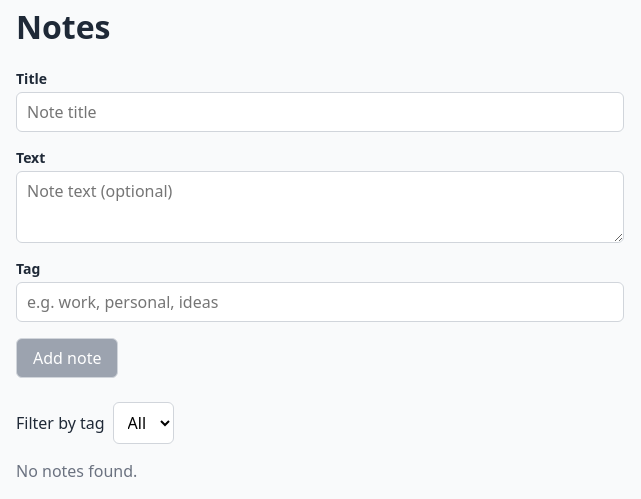
Test: Notes with tags UI › disables submit until title and tag are provided
Expected: the text "No notes found." is shown, [16,460,137,482]
Expected: the button "Add note" is disabled, [16,338,118,378]
Type "My note" into the field labelled "Title" at (320, 112), box [16,92,624,132]
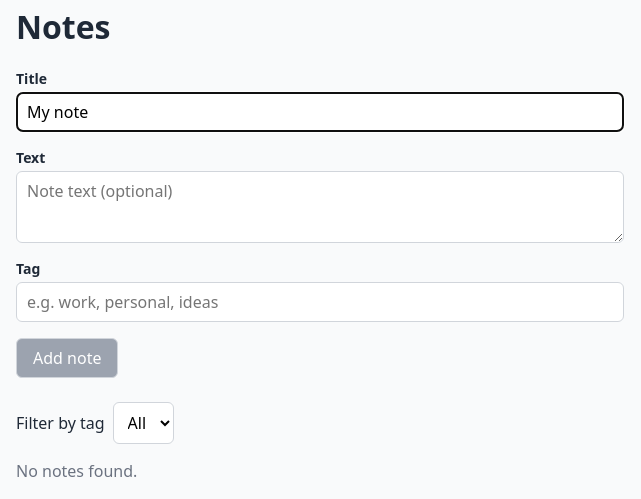
Expected: the button "Add note" is disabled, [16,338,118,378]
Type "work" into the field labelled "Tag" at (320, 302), box [16,282,624,322]
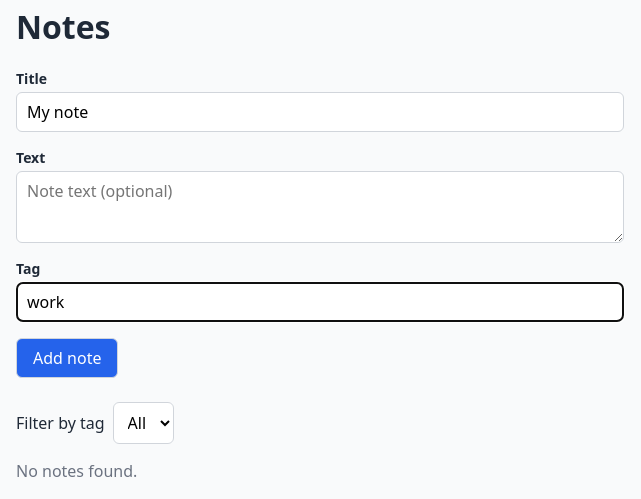
Expected: the button "Add note" is enabled, [16,338,118,378]
